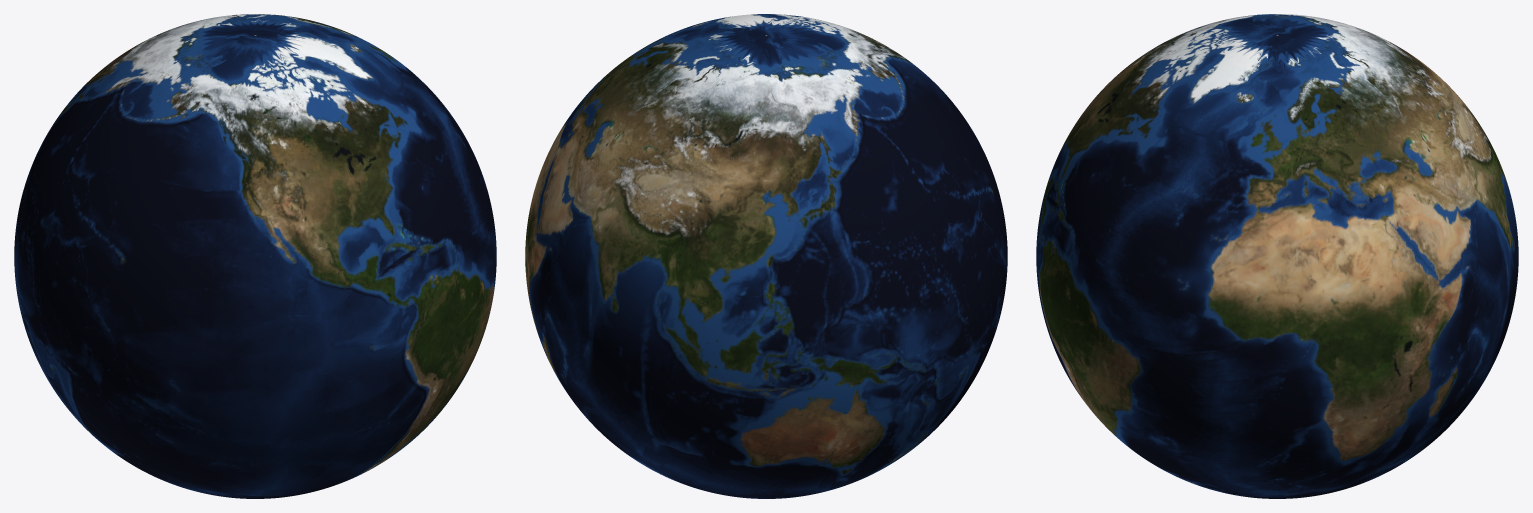
File: earth.gltf
3 views of the same model, side by side, from view 1: azimuth 30°, elevation 25°; view 2: azimuth 150°, elevation 25°; view 3: azimuth 270°, elevation 25° (orthographic).
Parts seen in each view (by area): view 1: Sphere_2; view 2: Sphere_2; view 3: Sphere_2.
Part boxes in pixels (bbox=[...]): Sphere_2: bbox=[14, 14, 496, 498]; Sphere_2: bbox=[525, 14, 1007, 498]; Sphere_2: bbox=[1036, 14, 1518, 498].
Size of the model in its own units: 2.23 by 2.25 by 2.23.
